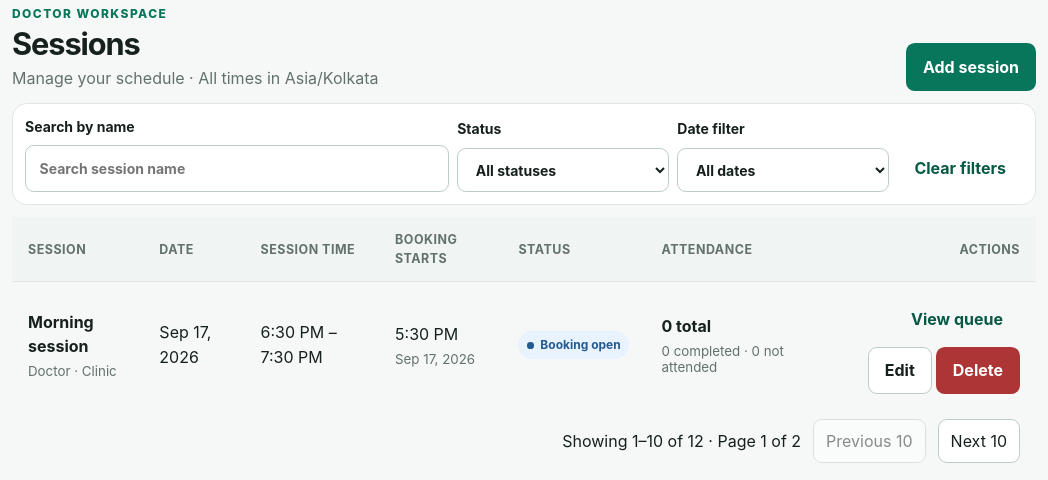
it: requests the next server page and resets to page one on filtering
Expected: the text "Morning session" is shown, [28, 312, 94, 356]
Click the button "Next 10" at (979, 441), box [938, 419, 1020, 463]
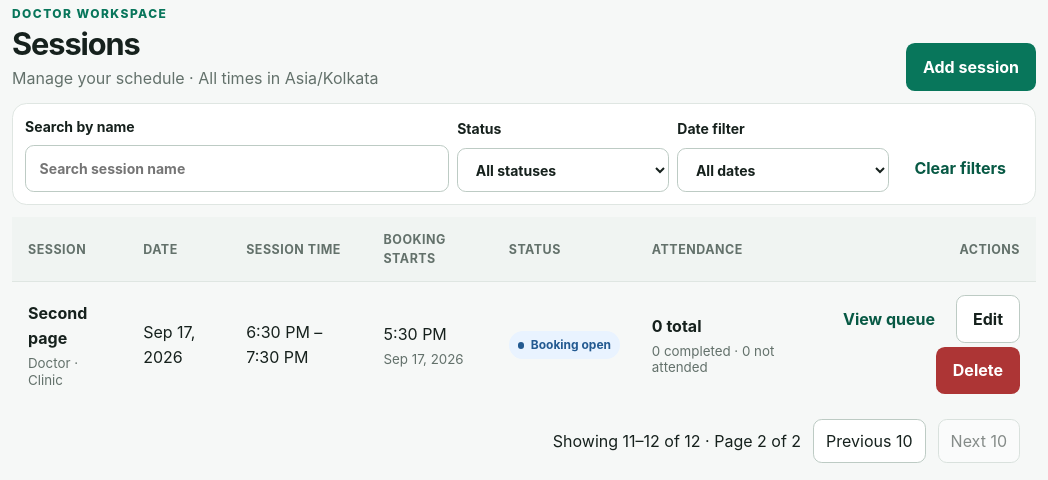
Now the text "Second page" is shown, box [28, 303, 87, 348]
Type "Morning" into the search field labelled "Search by name" at (237, 169), box [25, 145, 449, 192]
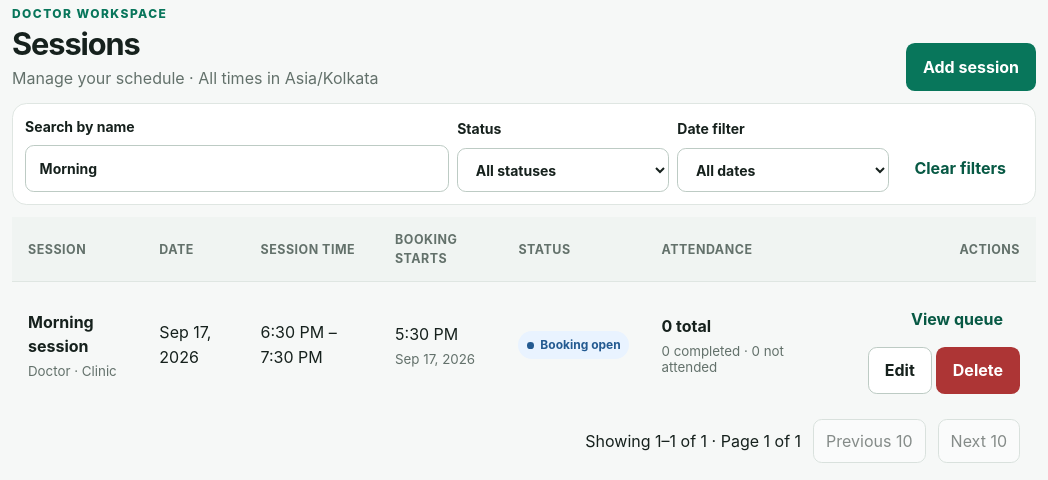
Now the text "Morning session" is shown, box [28, 312, 94, 356]
